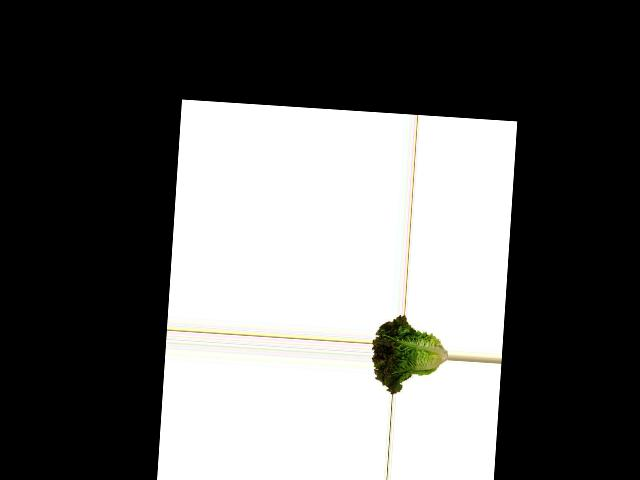lettuce: (370, 314, 450, 397)
